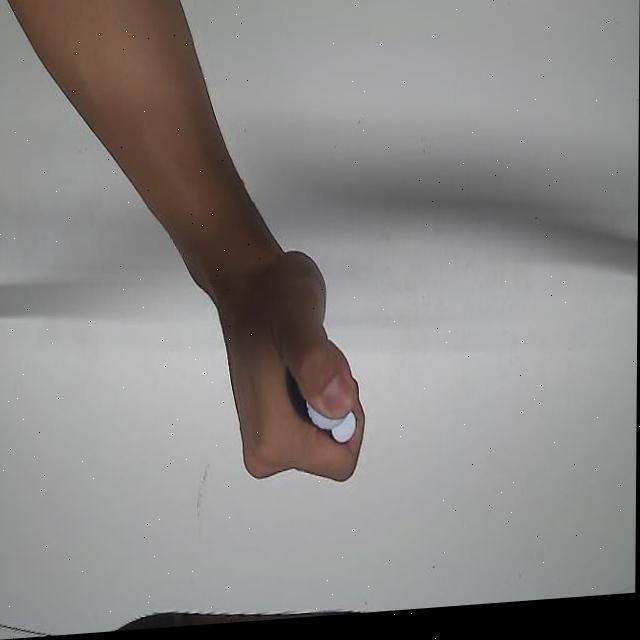Single Channel Pipettor: (300, 359, 362, 456)
